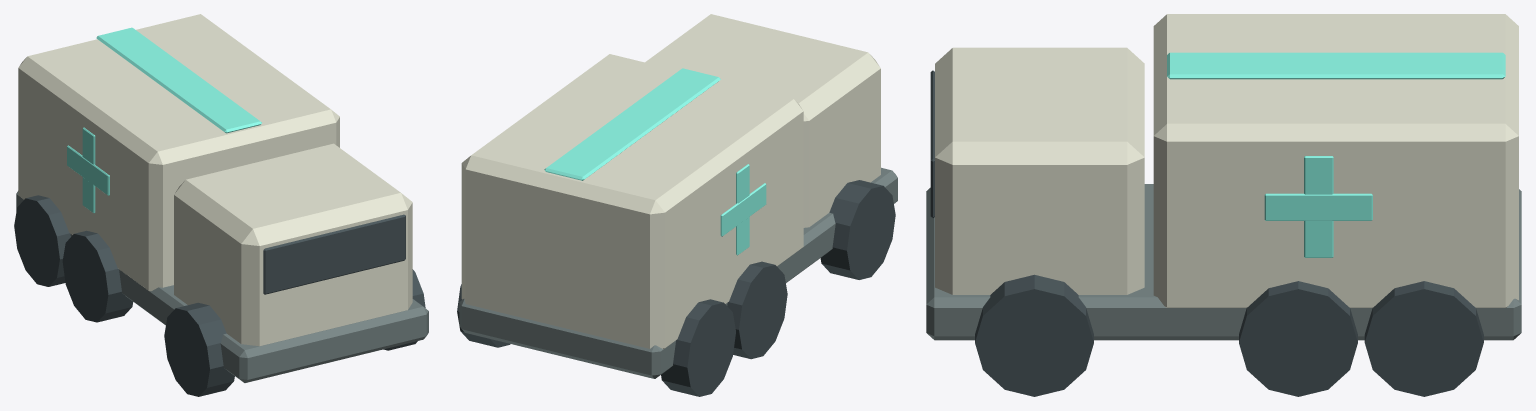
Rendered from transport.glb.
The picture shows the model from 3 angles, left to right: view 1: azimuth 30°, elevation 25°; view 2: azimuth 150°, elevation 25°; view 3: azimuth 270°, elevation 25°; orthographic projection. The views are drawn at different scales.
Visible parts, largest first — view 1: Cargo, Cab, Chassis, Windshield, RescueStripe, Wheel, Wheel.001, Wheel.002, CrossH, CrossV, Wheel.003; view 2: Cargo, Cab, Chassis, RescueStripe, Wheel, Wheel.002, Wheel.001, CrossH, CrossV, Wheel.005; view 3: Cargo, Cab, Chassis, Wheel.003, Wheel.005, Wheel.004, RescueStripe, CrossH.001, CrossV.001, Windshield.
Boxes of the visible parts, x1,y1,x2,y2 form: Cargo: [18, 14, 339, 291]; Cab: [174, 143, 412, 346]; Chassis: [16, 191, 428, 382]; Windshield: [263, 214, 405, 294]; RescueStripe: [96, 27, 261, 133]; Wheel: [164, 302, 234, 396]; Wheel.001: [62, 230, 133, 322]; Wheel.002: [14, 195, 70, 286]; CrossH: [67, 145, 109, 195]; CrossV: [82, 127, 95, 213]; Wheel.003: [383, 269, 425, 350]; Cargo: [461, 54, 803, 348]; Cab: [645, 14, 880, 227]; Chassis: [459, 167, 897, 378]; RescueStripe: [544, 68, 720, 180]; Wheel: [820, 180, 895, 279]; Wheel.002: [661, 299, 735, 396]; Wheel.001: [727, 261, 787, 359]; CrossH: [720, 183, 766, 236]; CrossV: [736, 164, 749, 255]; Wheel.005: [457, 284, 510, 347]; Cargo: [1153, 14, 1518, 307]; Cab: [935, 47, 1144, 294]; Chassis: [926, 184, 1521, 340]; Wheel.003: [975, 274, 1093, 396]; Wheel.005: [1364, 281, 1483, 396]; Wheel.004: [1239, 281, 1357, 396]; RescueStripe: [1167, 52, 1505, 79]; CrossH.001: [1264, 193, 1372, 220]; CrossV.001: [1304, 156, 1333, 257]; Windshield: [930, 70, 934, 217].
Size of the model in its own units: 2.4 by 2.16 by 4.4.
